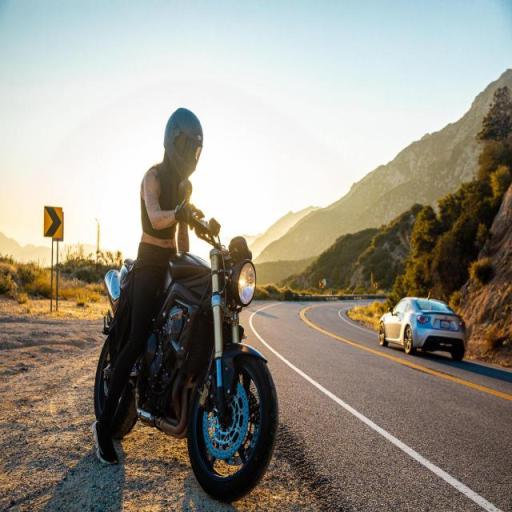Helmet: (159, 100, 209, 184)
Motor: (101, 243, 277, 486)
